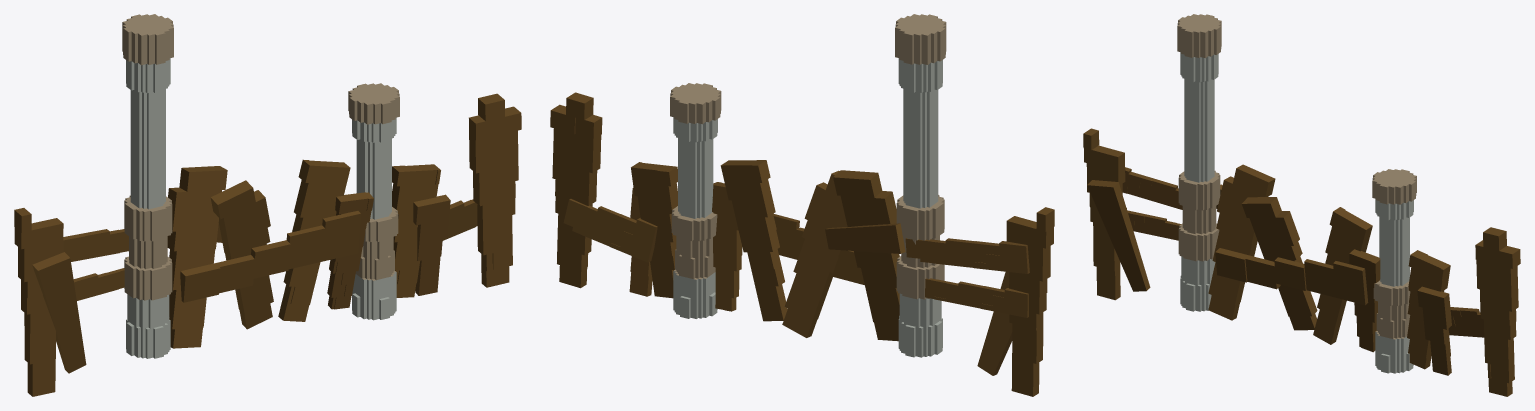
The model's file is Загородительная баррикада.fbx.
3 renders of one model, left to right at view 1: azimuth 30°, elevation 25°; view 2: azimuth 150°, elevation 25°; view 3: azimuth 330°, elevation 25°, orthographic. The views are drawn at different scales.
Visible parts, largest first — view 1: Cube.012; view 2: Cube.012; view 3: Cube.012.
Boxes of the visible parts, x1,y1,x2,y2 form: Cube.012: (14, 14, 521, 396); Cube.012: (550, 14, 1054, 396); Cube.012: (1083, 14, 1520, 396).
Bounding box in the file's own units: 777 × 511 × 77.51.
